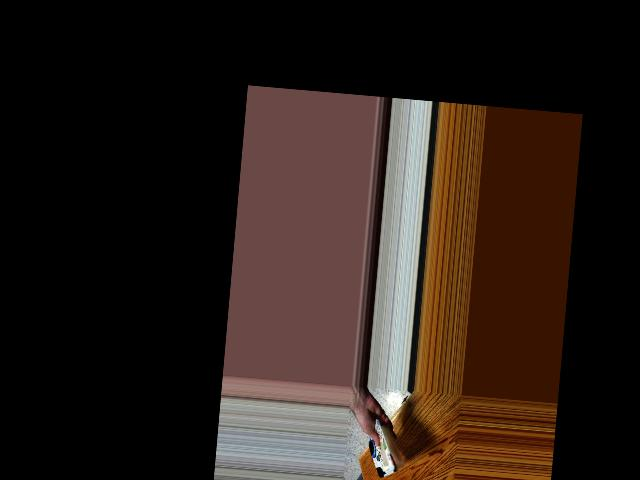cheese: (357, 426, 405, 476)
